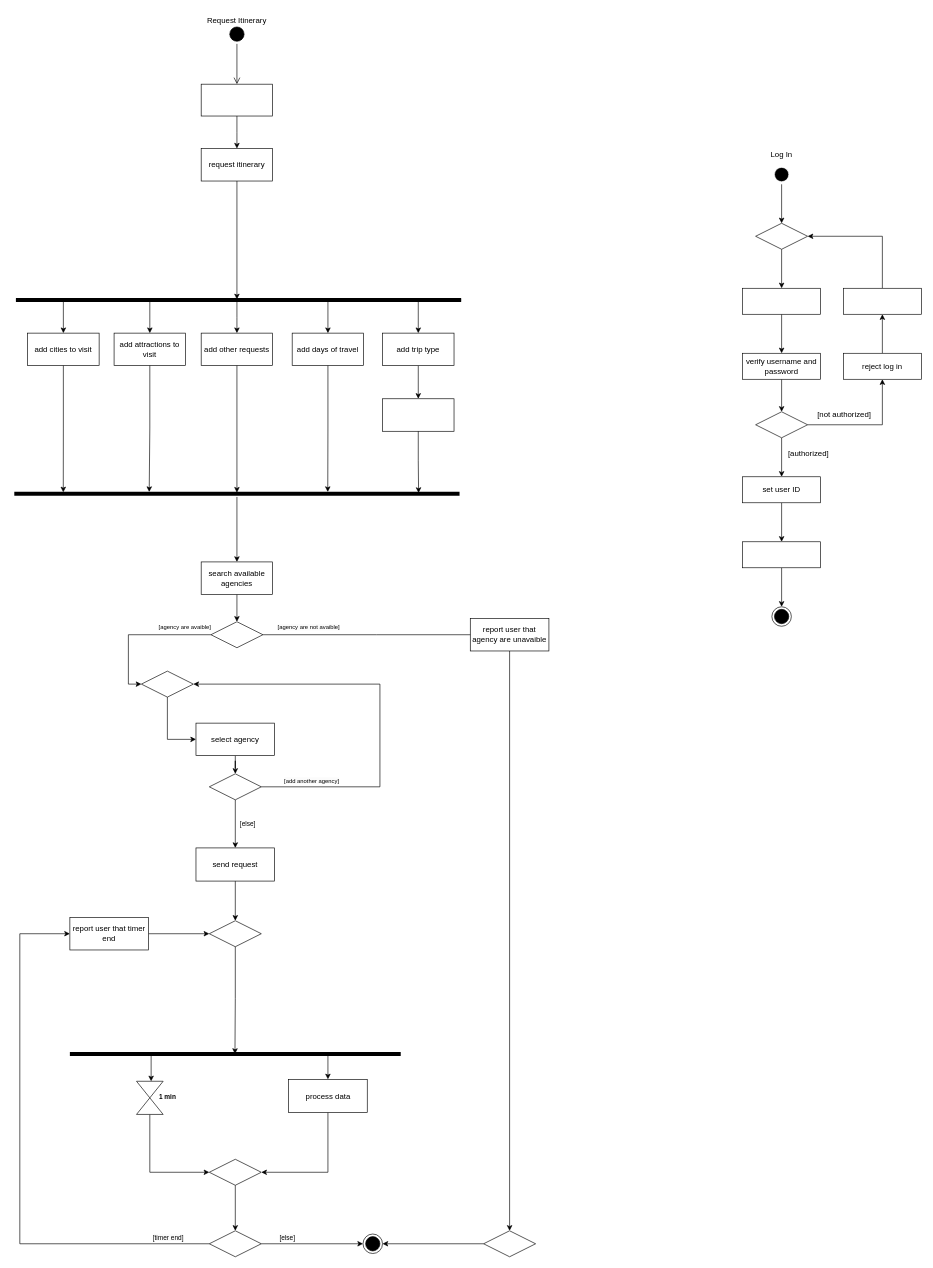
The diagram is 933 pixels wide and 1268 high, and some of its shapes have lost their labels. Each missing label, with the centre of its shape:
"*Log in" goes at (237,100).
"back to previous page" goes at (781,554).
"display error message" goes at (882,301).
"enter username and password" goes at (781,301).
"select trip type details" goes at (418,414).
